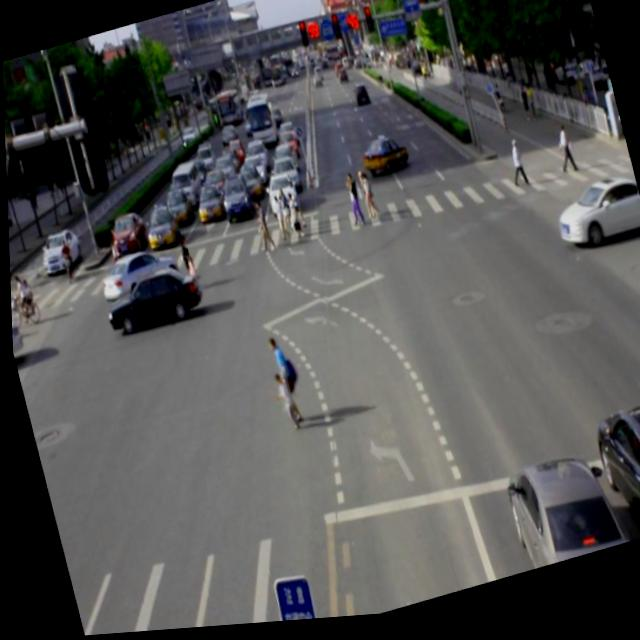car: (488, 445, 617, 582), (574, 392, 640, 556), (544, 175, 640, 266), (99, 264, 202, 340), (94, 244, 182, 313)
